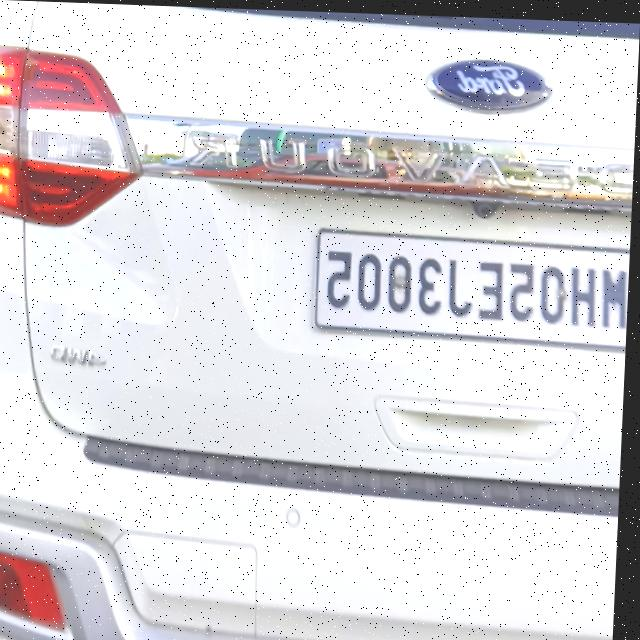plate: (316, 224, 633, 344)
